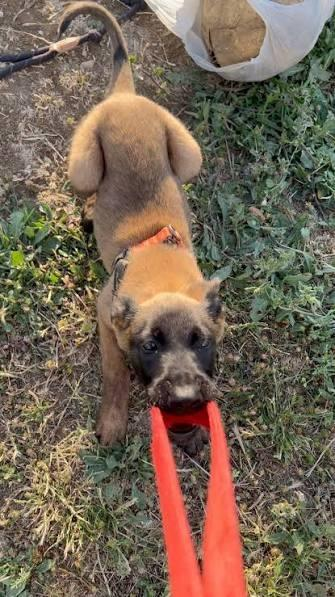puppy-dog: (57, 0, 233, 449)
